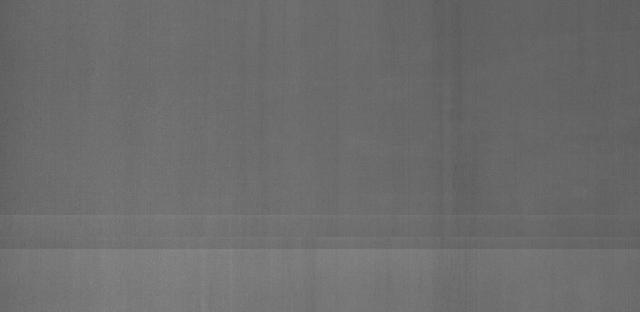welding_line: (0, 229, 640, 251), (0, 207, 640, 223)
